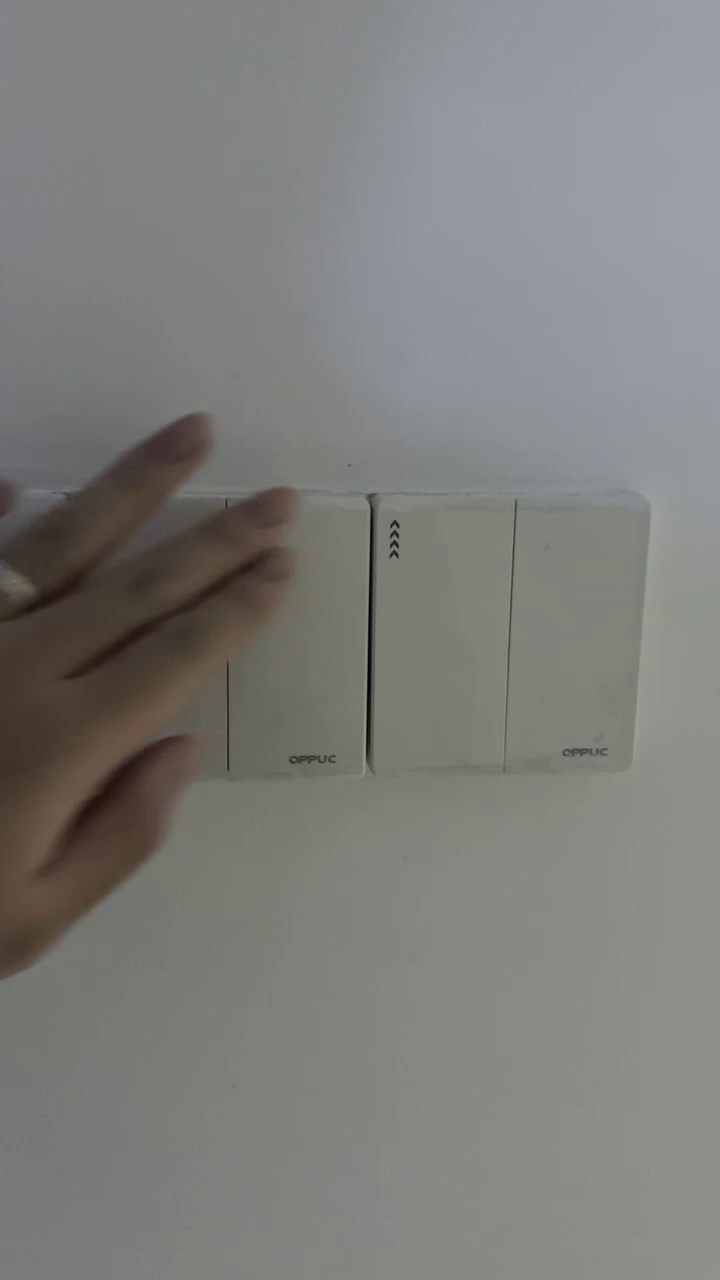button1: (511, 508, 640, 768), (374, 507, 505, 763), (241, 509, 365, 774)
